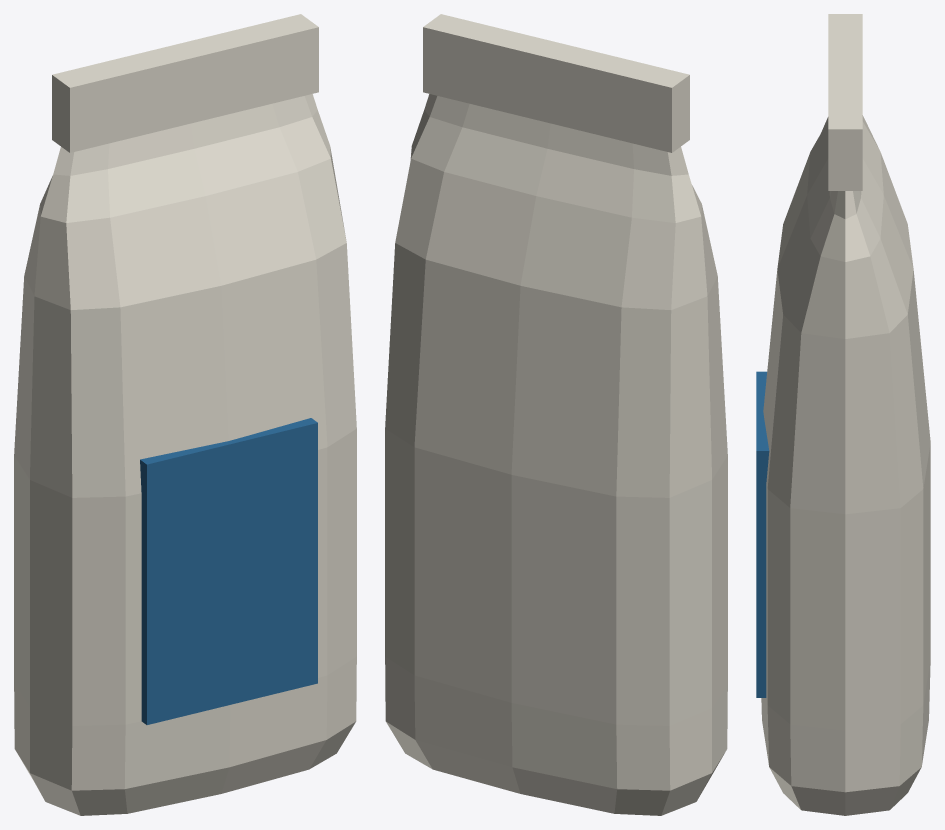
Rendered from FD_SugarBag_01.glb.
3 views of the same model, side by side, from view 1: azimuth 30°, elevation 25°; view 2: azimuth 150°, elevation 25°; view 3: azimuth 270°, elevation 25° (orthographic). The views are drawn at different scales.
Parts seen in each view (by area): view 1: FD_SugarBag_01; view 2: FD_SugarBag_01; view 3: FD_SugarBag_01.
Boxes of the visible parts, x1,y1,x2,y2 form: FD_SugarBag_01: [14, 14, 356, 815]; FD_SugarBag_01: [385, 14, 727, 815]; FD_SugarBag_01: [756, 14, 930, 815].
Bounding box in the file's own units: 0.12 × 0.264 × 0.0614.
1 material, 1 textured.
